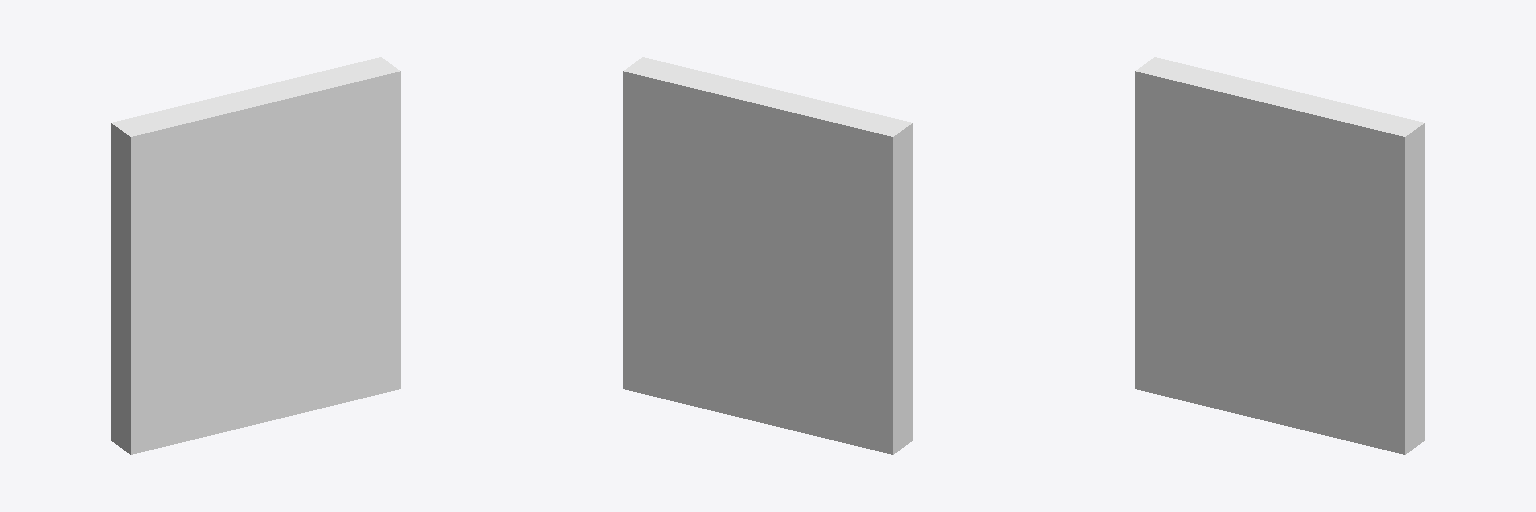
File: Kitchen-16-FridgeDoorBottom.obj
3 views of the same model, side by side, from view 1: azimuth 30°, elevation 25°; view 2: azimuth 150°, elevation 25°; view 3: azimuth 330°, elevation 25° (orthographic).
Parts seen in each view (by area): view 1: FridgeDoorBottom; view 2: FridgeDoorBottom; view 3: FridgeDoorBottom.
Part boxes in pixels (x1,y1,x2,y2): FridgeDoorBottom: (111,57,400,454); FridgeDoorBottom: (623,57,912,454); FridgeDoorBottom: (1135,57,1424,454).
Bounding box in the file's own units: 0.8 × 0.9 × 0.1.